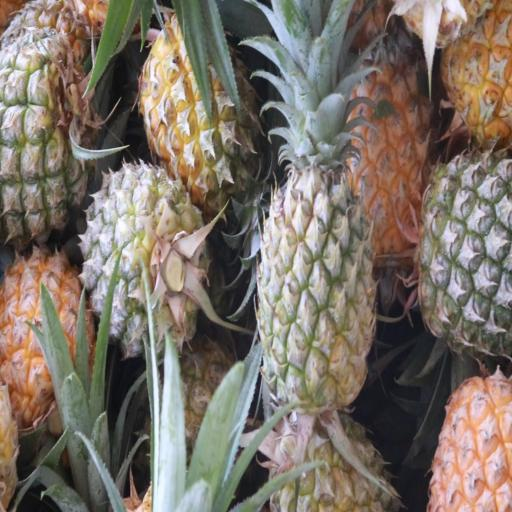------------------------------: (84, 166, 210, 354), (143, 18, 259, 206)
Pineapple - v8 v1: (344, 47, 440, 254), (0, 250, 93, 421)
